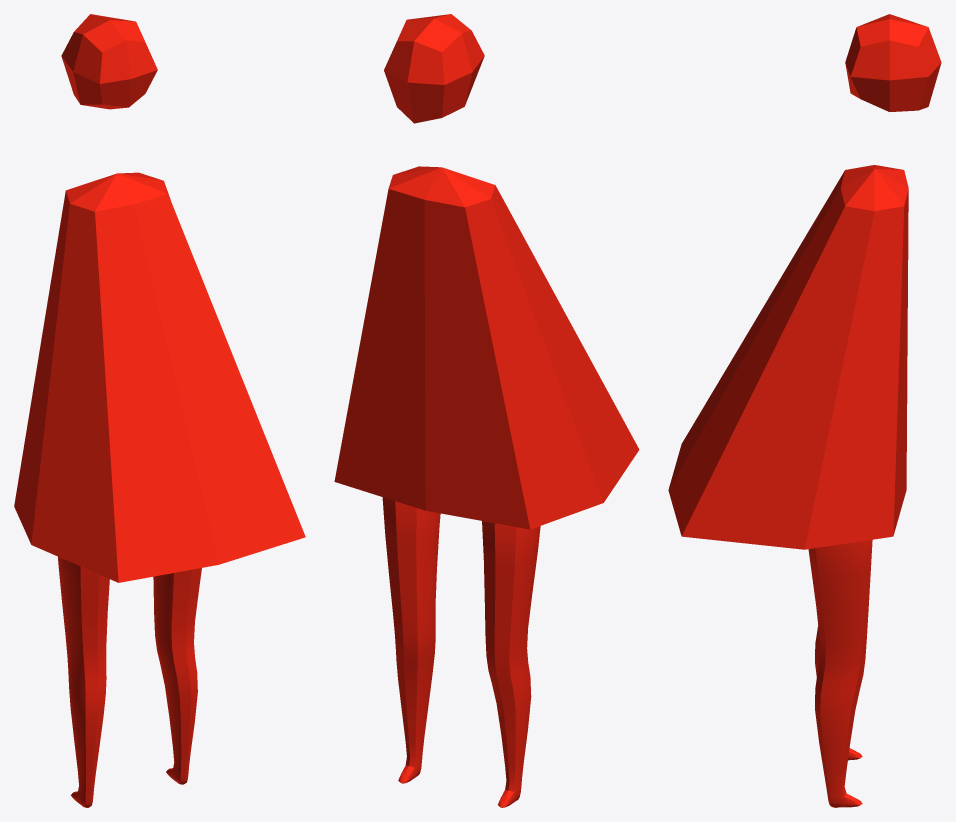
File: Charcter1.fbx
The picture shows the model from 3 angles, left to right: view 1: azimuth 30°, elevation 25°; view 2: azimuth 150°, elevation 25°; view 3: azimuth 270°, elevation 25°; orthographic projection. The views are drawn at different scales.
Parts seen in each view (by area): view 1: Cone, Leg_R, Leg_L, Platonic; view 2: Cone, Leg_R, Leg_L, Platonic; view 3: Cone, Leg_L, Platonic.
Boxes of the visible parts, x1,y1,x2,y2 form: Cone: (14, 172, 305, 582); Leg_R: (58, 556, 109, 807); Leg_L: (153, 568, 201, 784); Platonic: (61, 14, 157, 109); Cone: (334, 166, 639, 529); Leg_R: (482, 521, 540, 807); Leg_L: (382, 497, 440, 783); Platonic: (384, 14, 484, 123); Cone: (668, 165, 908, 549); Leg_L: (808, 539, 872, 807); Platonic: (845, 14, 941, 111).
Size of the model in its own units: 141 by 422 by 137.
